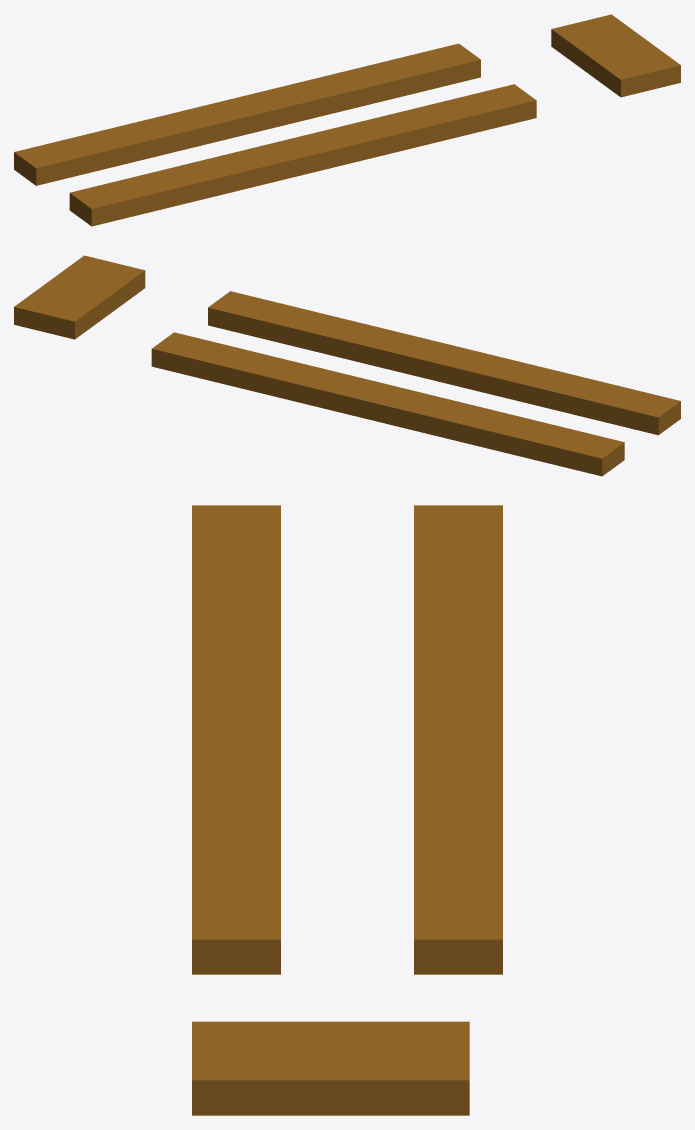
File: hatch_readout.obj
The picture shows the model from 3 angles, top to bottom: view 1: azimuth 30°, elevation 25°; view 2: azimuth 150°, elevation 25°; view 3: azimuth 270°, elevation 25°; orthographic projection. The views are drawn at different scales.
Parts seen in each view (by area): view 1: hatch_readout; view 2: hatch_readout; view 3: hatch_readout.
Part boxes in pixels (x1,y1,x2,y2): hatch_readout: (14,14,680,226); hatch_readout: (14,255,680,476); hatch_readout: (192,505,502,1115).
Bounding box in the file's own units: 0.49 × 0.014 × 0.112.
